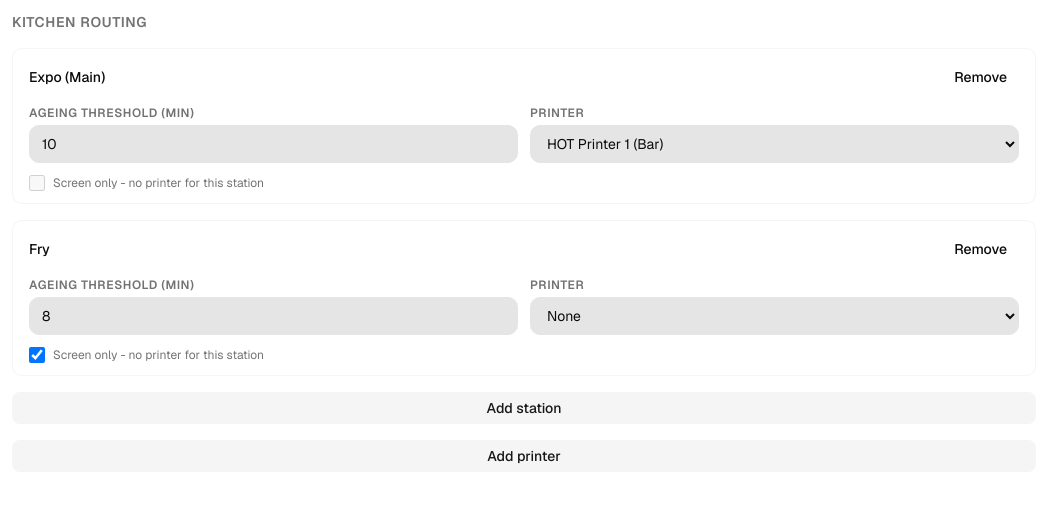
Test: StationsPanel › flags a station left with no printer and no acknowledgement as invalid, and blocks the save
The image size is (1048, 509).
Select "None" in the dropdown with test id "station-printer-select-station-1" at (774, 144), box [530,125,1019,163]
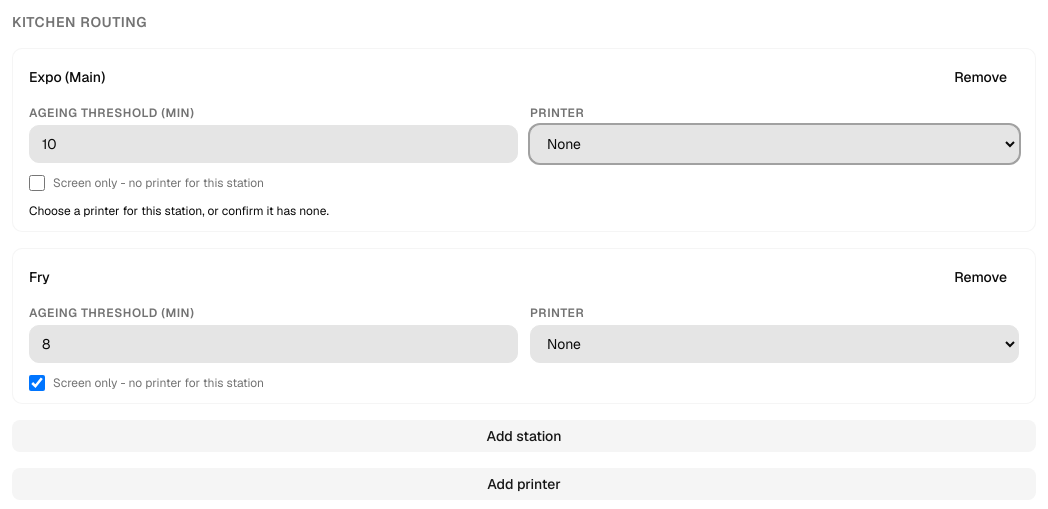
Now the text with test id "station-printer-error-station-1" shows "Choose a printer", box [29,203,329,219]
